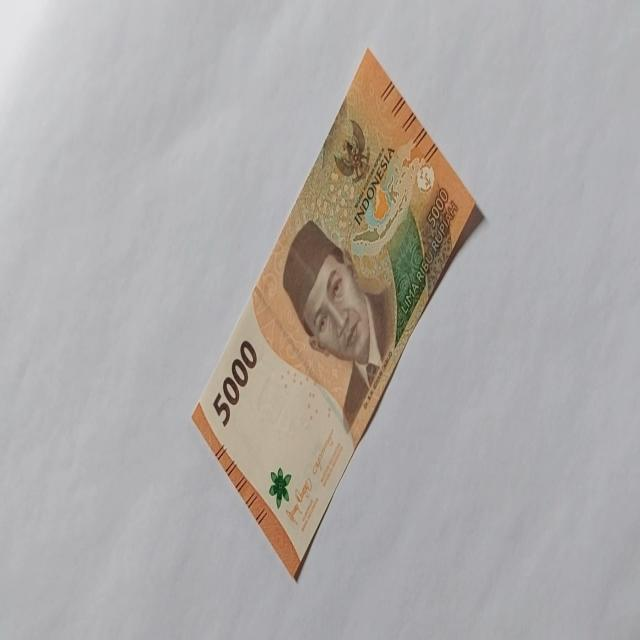lima ribu rupiah: (190, 47, 484, 580), (281, 216, 397, 429)
